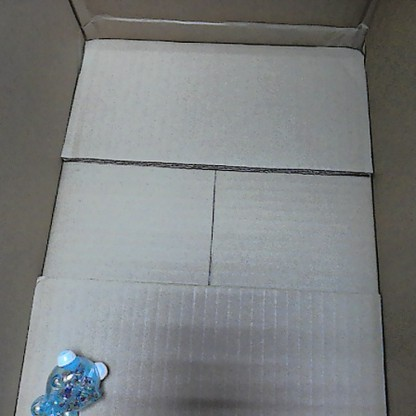bluefish: (28, 348, 110, 414)
